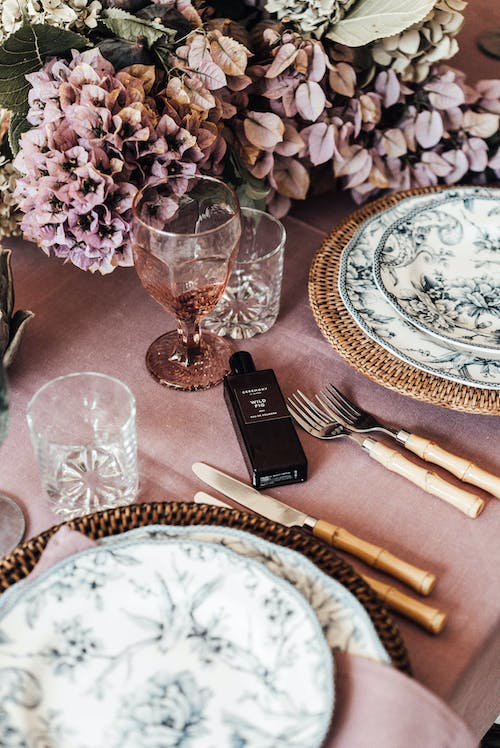knife: (192, 489, 449, 637), (189, 458, 440, 597)
